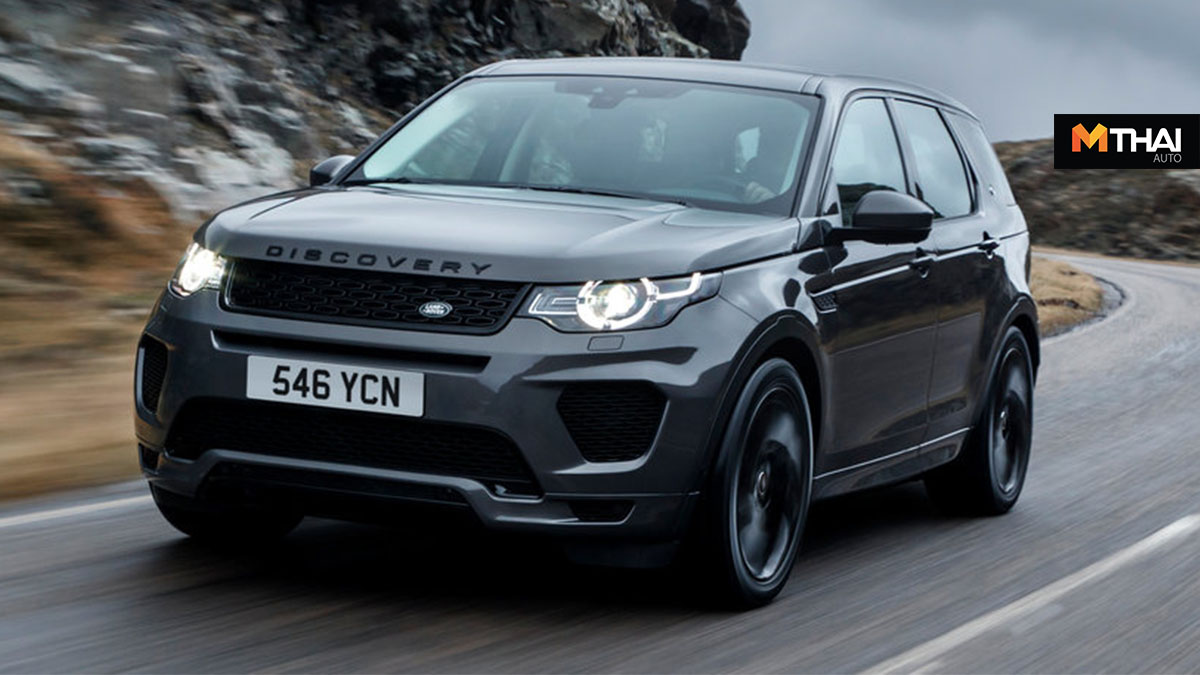pickup: (133, 50, 1039, 610)
